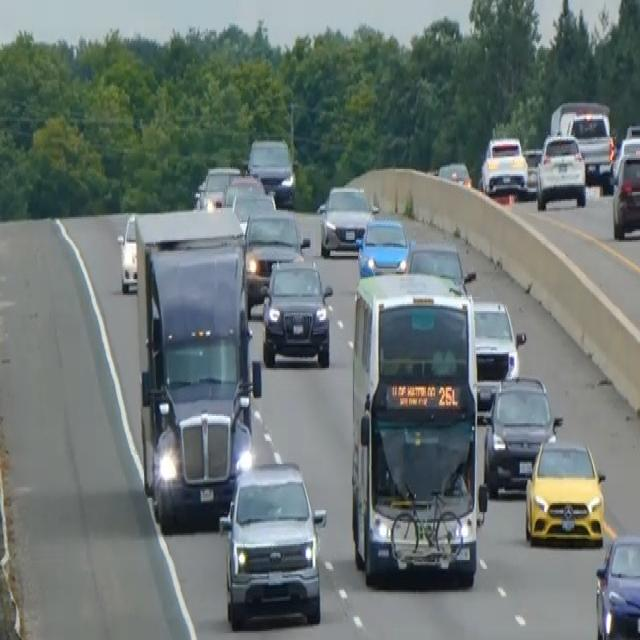bus: (349, 268, 486, 588)
car: (483, 373, 560, 496), (523, 436, 606, 548), (260, 258, 333, 368), (242, 206, 309, 311), (594, 532, 639, 638), (471, 295, 525, 381), (318, 181, 375, 256), (535, 132, 586, 210), (246, 135, 295, 203), (356, 215, 409, 276), (480, 134, 528, 198), (404, 238, 465, 286), (611, 148, 639, 238), (194, 162, 240, 208), (229, 188, 276, 230), (116, 210, 139, 293), (223, 171, 265, 206), (436, 158, 471, 188)
jeep: (217, 459, 327, 629)
lorry: (131, 204, 261, 526)
motorcycle: (386, 474, 479, 578)
truck: (549, 98, 615, 185)
